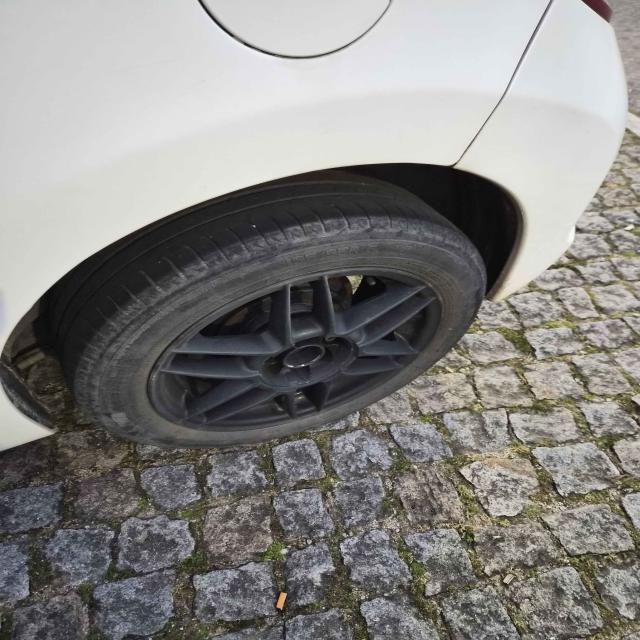jante: (146, 268, 445, 432)
parafuso: (322, 336, 338, 344)
roda: (46, 170, 487, 448)
